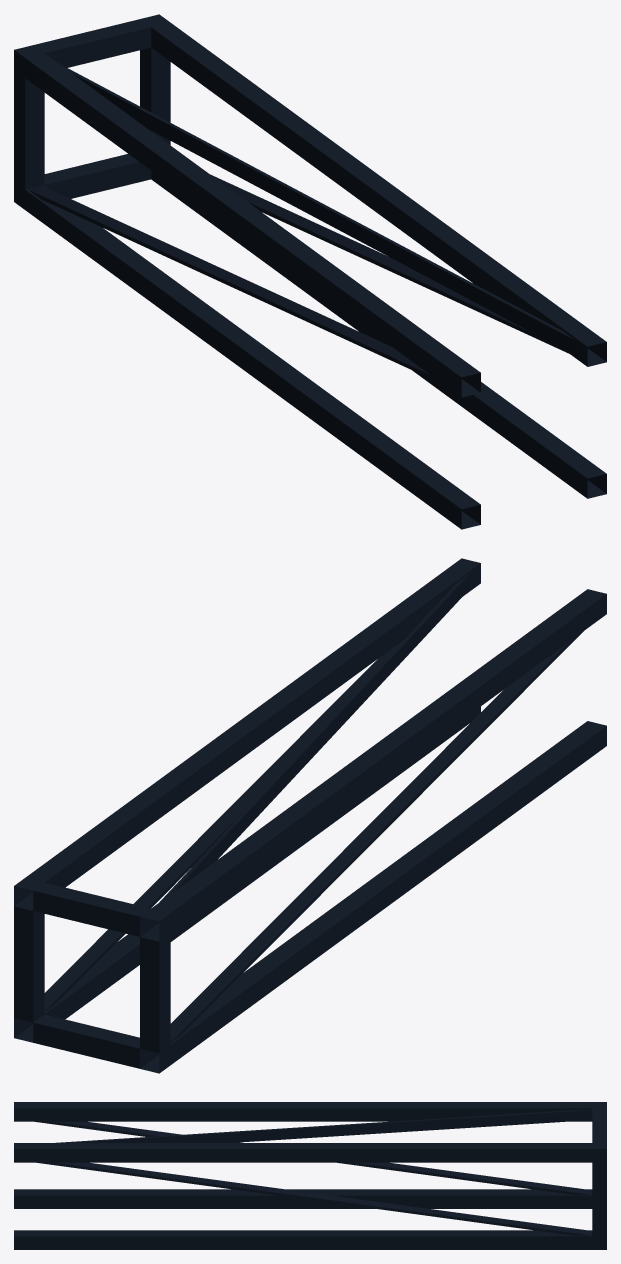
The model's file is SP_Truss.glb.
The picture shows the model from 3 angles, top to bottom: view 1: azimuth 30°, elevation 25°; view 2: azimuth 150°, elevation 25°; view 3: azimuth 270°, elevation 25°; orthographic projection. The views are drawn at different scales.
Visible parts, largest first — view 1: SP_Truss__bay; view 2: SP_Truss__bay; view 3: SP_Truss__bay.
Boxes of the visible parts, box(x1,y1,x2,y2) form: SP_Truss__bay: box(14, 14, 606, 529); SP_Truss__bay: box(14, 558, 606, 1073); SP_Truss__bay: box(14, 1102, 606, 1249).
Bounding box in the file's own units: 3 × 3 × 16.
